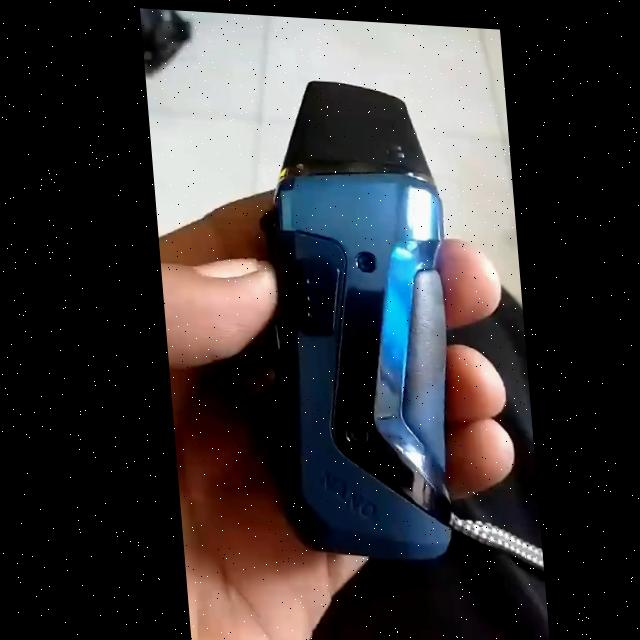vape: (249, 72, 465, 556)
